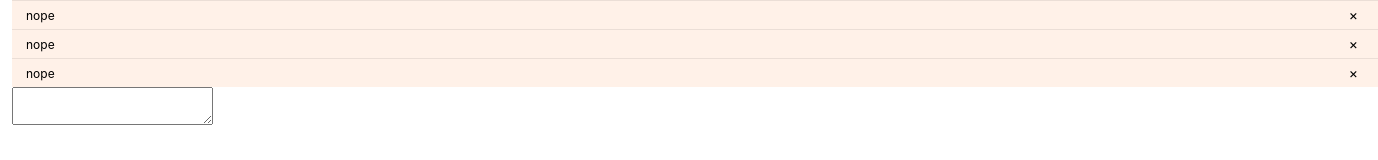
Test: dropping files › errors can be dismissed, and only the last three are kept
The image size is (1378, 160).
Expected: the number of messages is 3, [12,0,1377,29]; [12,29,1377,58]; [12,58,1377,87]
Click the button named "Dismiss" at {"x": 1353, "y": 15}, box [1343,7,1364,23]
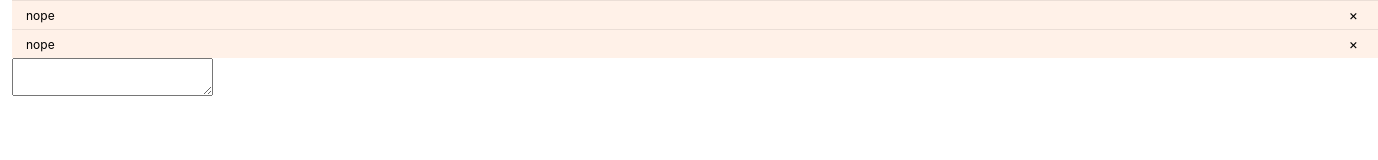
Now the number of messages is 2, box [12,0,1377,29]; [12,29,1377,58]
